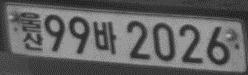0: (151, 21, 176, 61)
2: (178, 22, 203, 64), (126, 20, 151, 59)
6: (206, 25, 230, 65)
9: (43, 13, 65, 52), (68, 15, 90, 54)
바: (92, 20, 118, 54)
울산_V: (19, 11, 43, 51)
